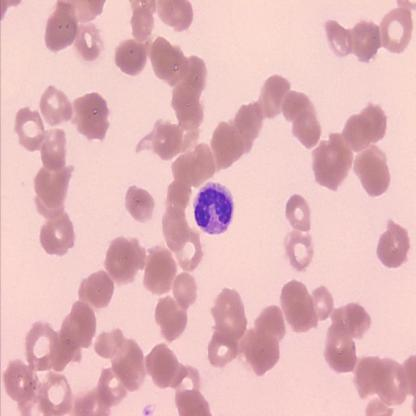Band Neutrophil: (194, 182, 235, 235)
